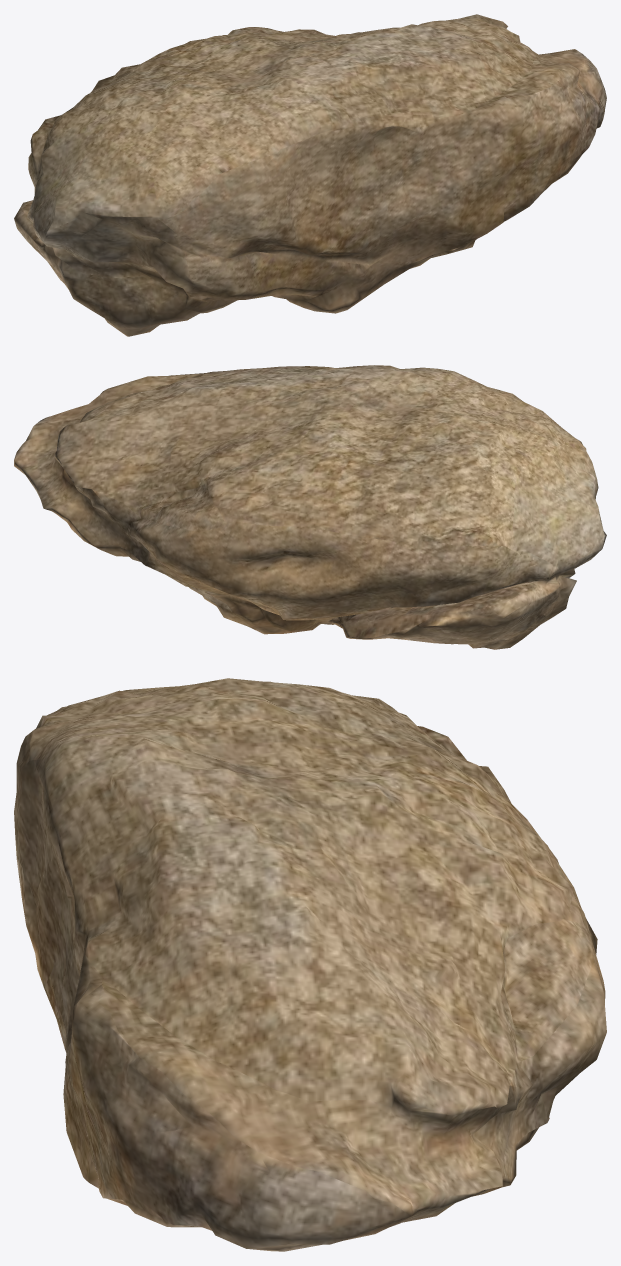
Rendered from namaqualand_boulder_05.glb.
The picture shows the model from 3 angles, top to bottom: view 1: azimuth 30°, elevation 25°; view 2: azimuth 150°, elevation 25°; view 3: azimuth 270°, elevation 25°; orthographic projection. The views are drawn at different scales.
Parts seen in each view (by area): view 1: namaqualand_boulder_05; view 2: namaqualand_boulder_05; view 3: namaqualand_boulder_05.
Part boxes in pixels (x1=…): namaqualand_boulder_05: x1=14, y1=14, x2=606, y2=336; namaqualand_boulder_05: x1=14, y1=365, x2=606, y2=649; namaqualand_boulder_05: x1=14, y1=678, x2=606, y2=1251.
Bounding box in the file's own units: 1.36 × 0.5315 × 0.7398.
Materials: 1 (1 with a texture image).
